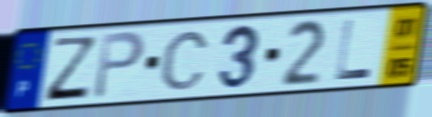2: (279, 18, 329, 89)
3: (215, 22, 264, 92)
C: (159, 29, 212, 93)
L: (334, 17, 375, 83)
P: (91, 28, 148, 102)
Z: (42, 35, 100, 103)
